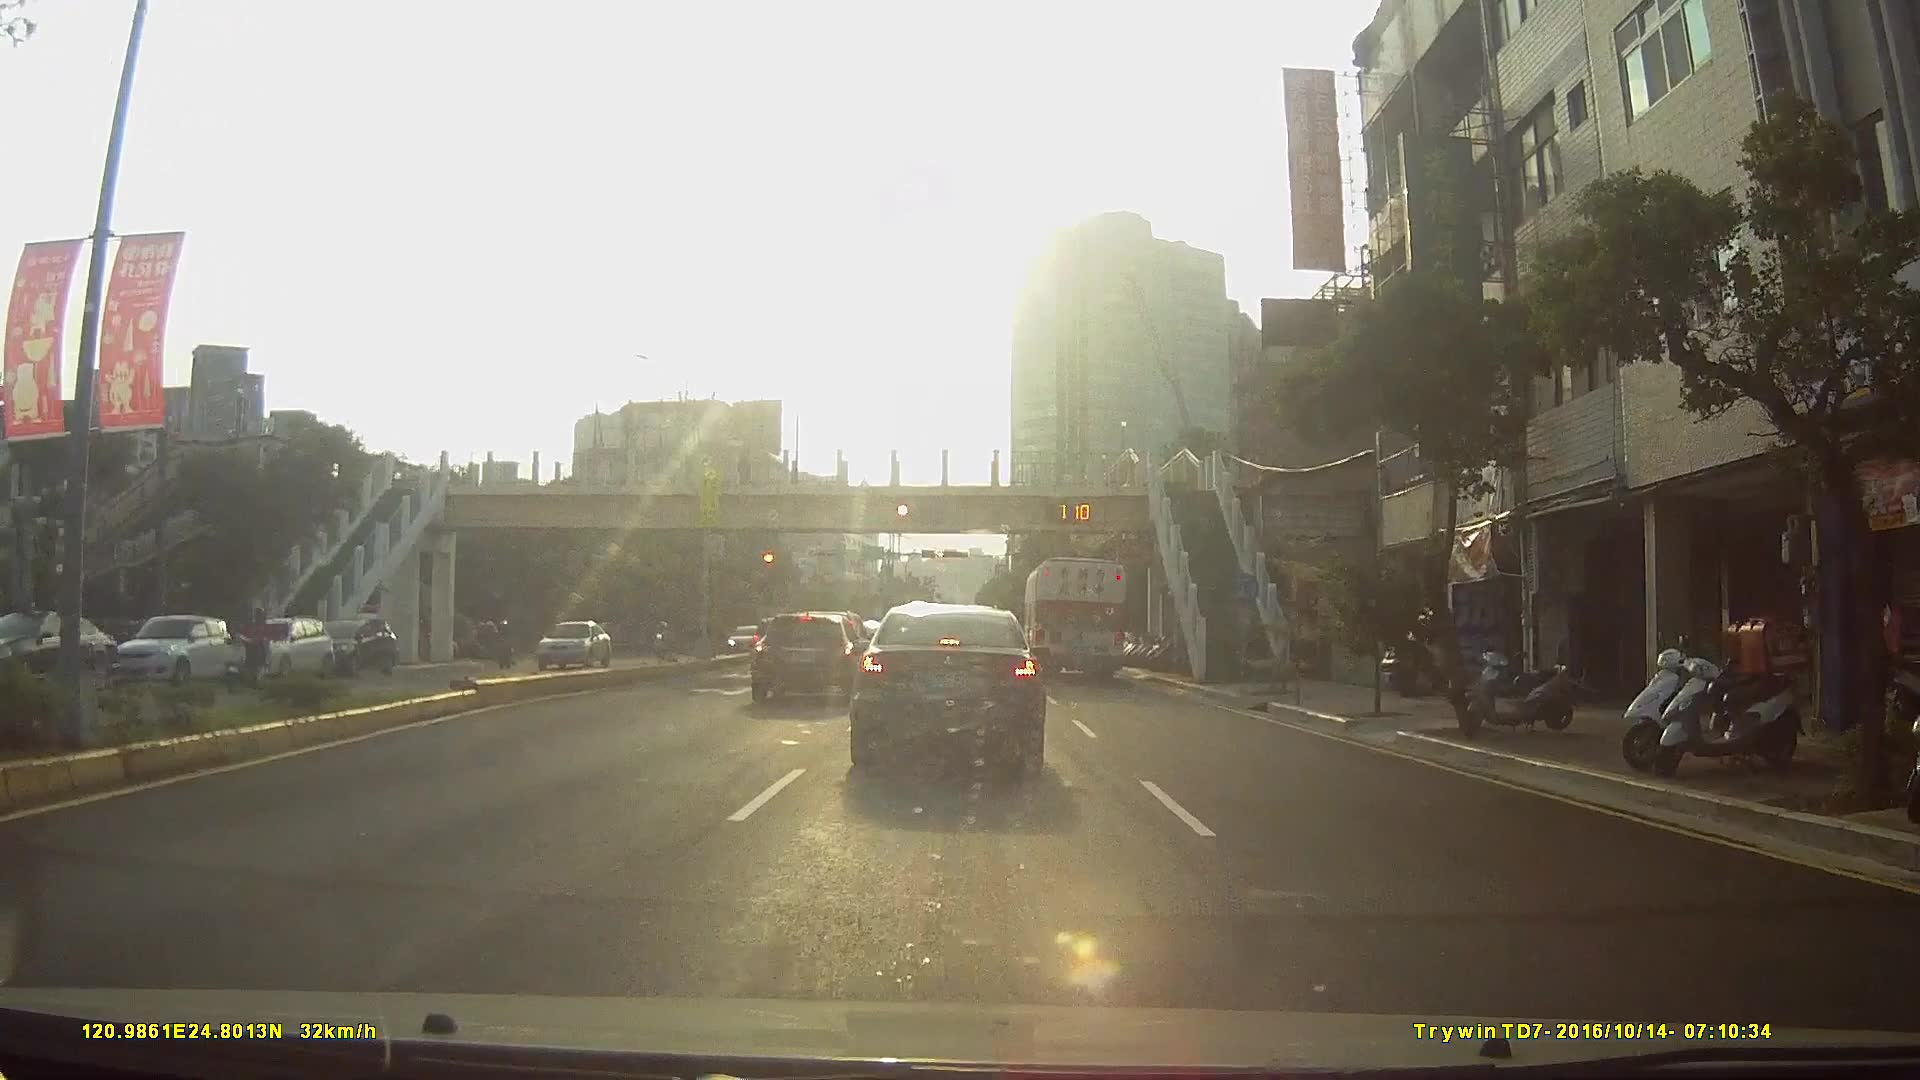rider: (208, 605, 278, 699)
vehicle: (844, 600, 1048, 773), (1022, 553, 1129, 683), (744, 608, 866, 704), (105, 613, 236, 688), (0, 609, 117, 689), (222, 615, 333, 679), (310, 616, 396, 677), (525, 619, 606, 672), (723, 624, 760, 655)
